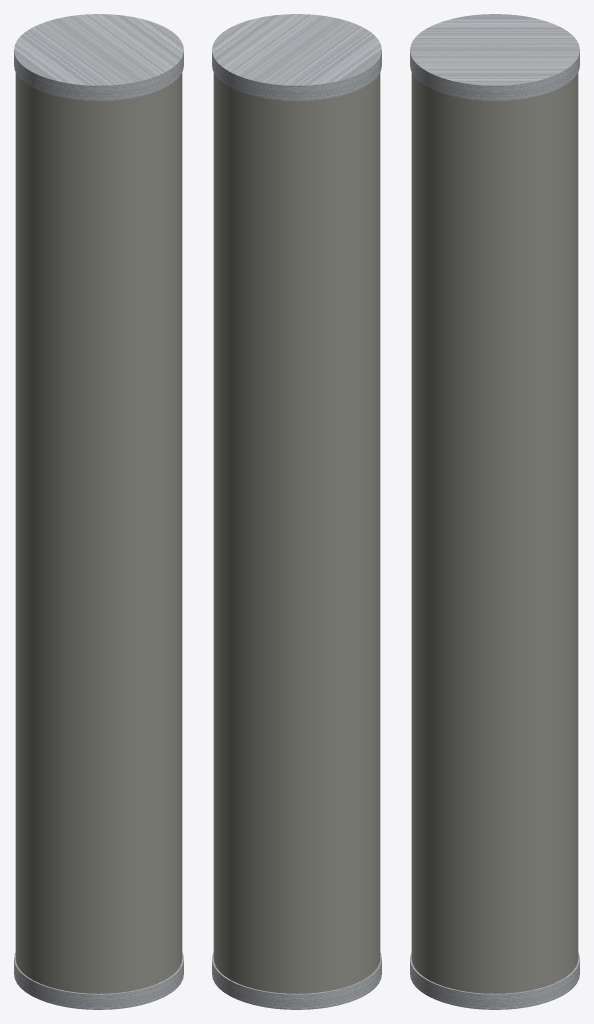
The model's file is BridgePillar.glb.
3 renders of one model, left to right at view 1: azimuth 30°, elevation 25°; view 2: azimuth 150°, elevation 25°; view 3: azimuth 270°, elevation 25°, orthographic.
Parts seen in each view (by area): view 1: bridge-pillar-shaft, bridge-pillar-collar (×2); view 2: bridge-pillar-shaft, bridge-pillar-collar (×2); view 3: bridge-pillar-shaft, bridge-pillar-collar (×2).
Part boxes in pixels (left/top/right/bottom): bridge-pillar-shaft: left=15, top=72, right=182, bottom=993; bridge-pillar-collar (×2): left=14, top=14, right=183, bottom=1009; bridge-pillar-shaft: left=213, top=72, right=380, bottom=993; bridge-pillar-collar (×2): left=212, top=14, right=381, bottom=1009; bridge-pillar-shaft: left=411, top=72, right=578, bottom=993; bridge-pillar-collar (×2): left=410, top=14, right=579, bottom=1009.
Bounding box in the file's own units: 1 × 6 × 1.
Materials: 2 (1 with a texture image).
